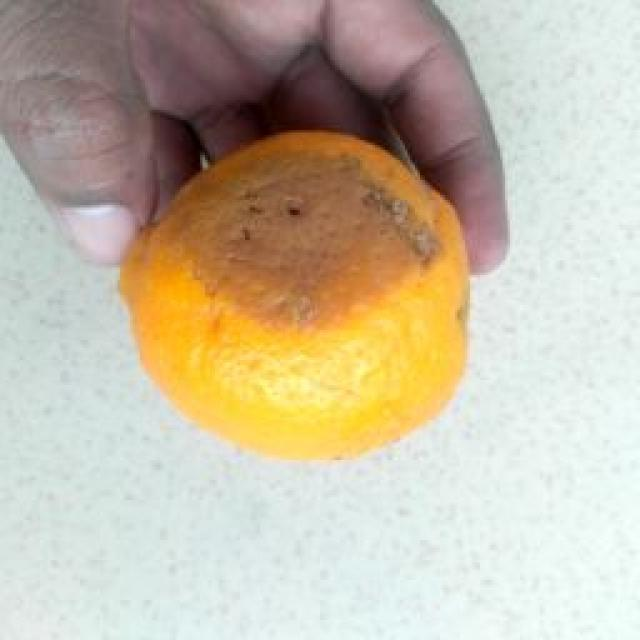Bad_Orange: (121, 132, 466, 458)
